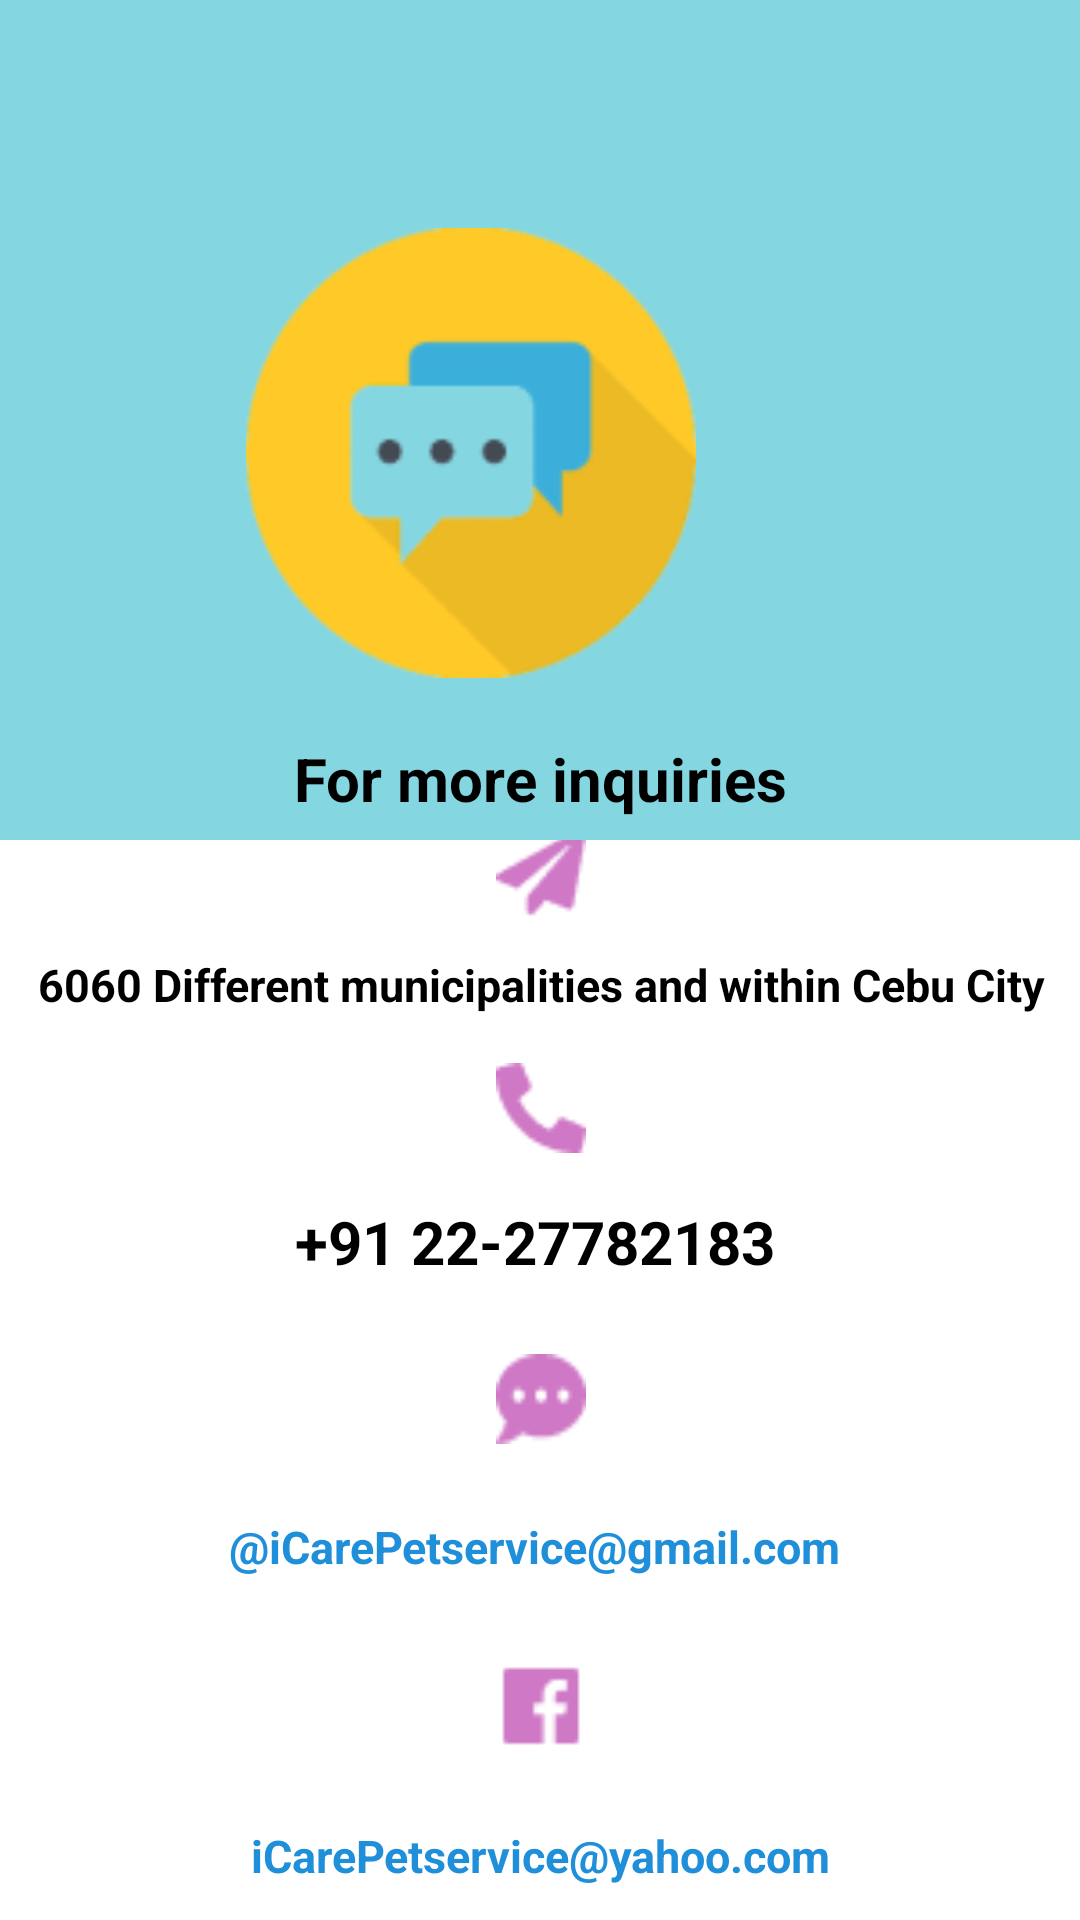

Point at icon controls on the screen. Image size 1080px x 1920px, points as (x,y).
messenger: (541,1399)
phone: (541,1108)
plane: (541,872)
